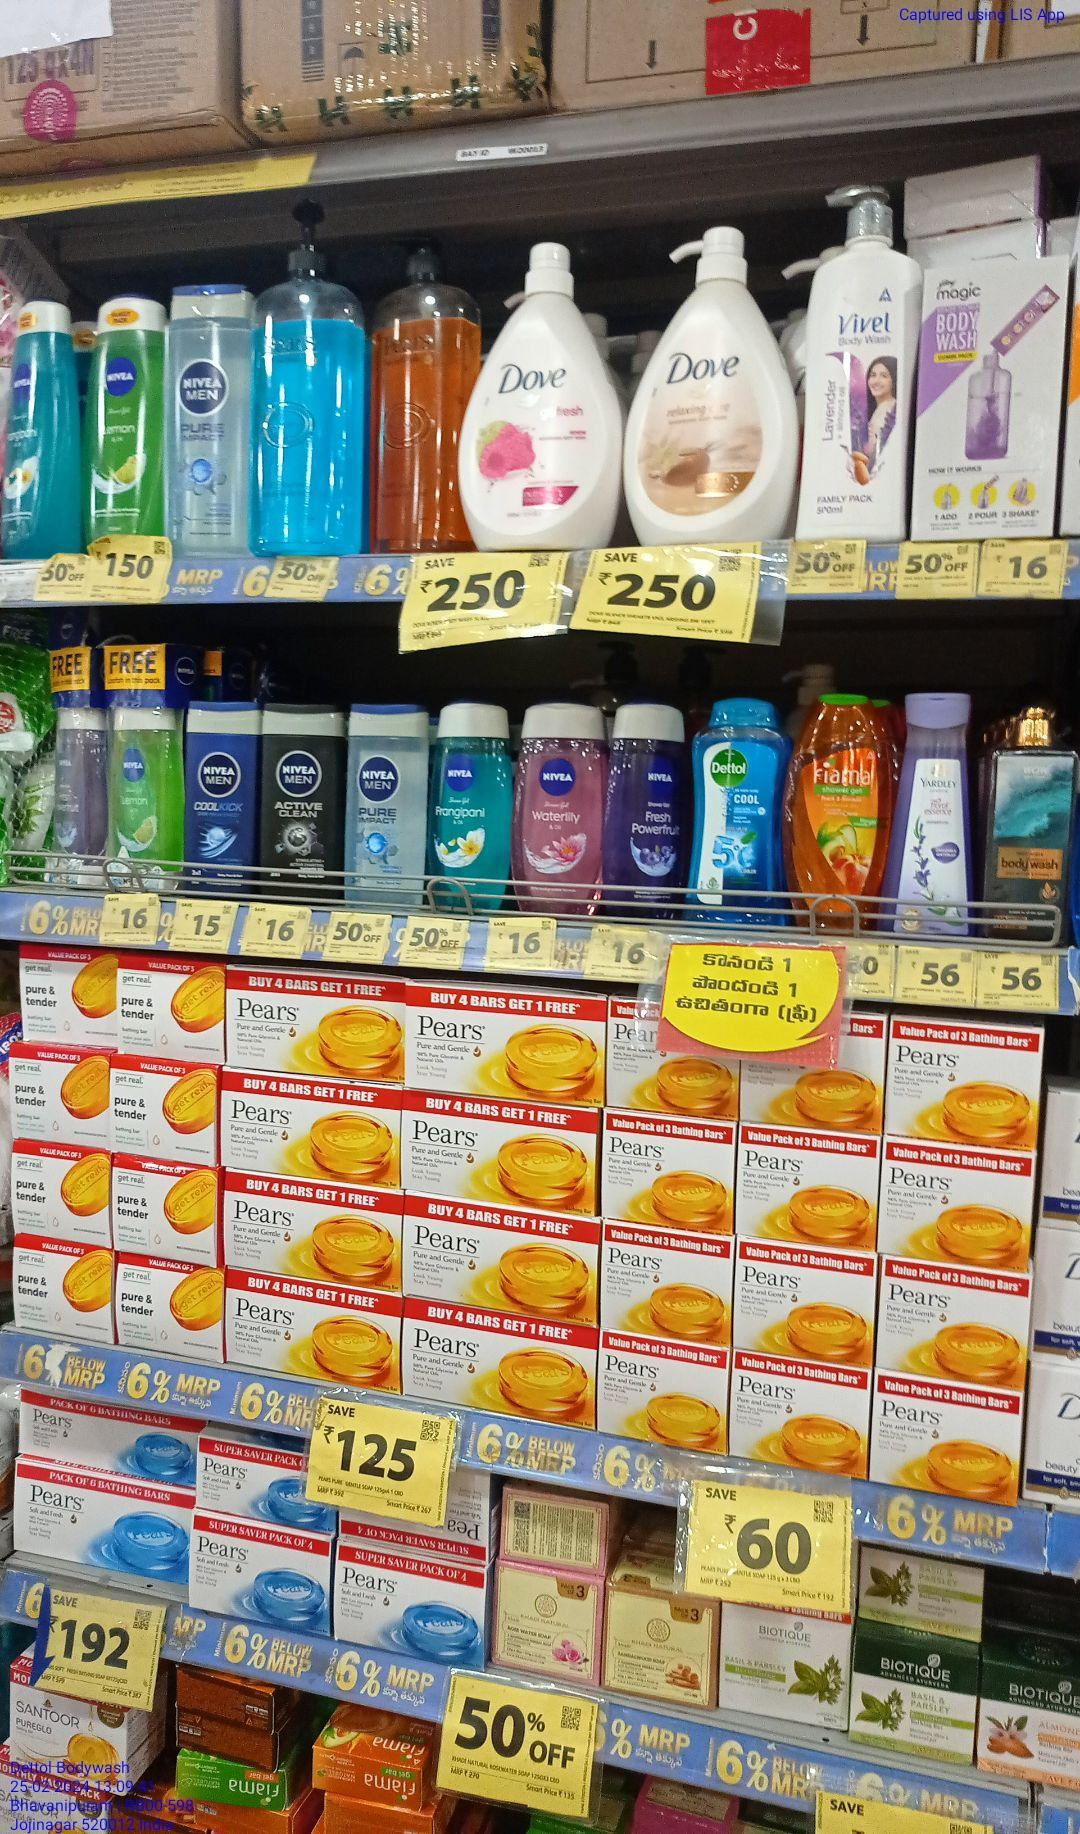Dettol_Bodywash_Cool: (698, 698, 787, 925)
Fiama_Shower_Gel_Peach_and_Avocado_250ML: (789, 693, 896, 932)
Nivea_Shower_Gel_Frangipani_and_Oil_250ML: (433, 704, 512, 914)
Nivea_Shower_Gel_Fresh_Powerfruit_250ML: (609, 700, 692, 920)
Nivea_Shower_Gel_Lemon_and_Oil_250ML: (105, 709, 183, 875)
Nivea_Shower_Gel_Waterlily_and_Oil_250ML: (519, 703, 604, 921)
